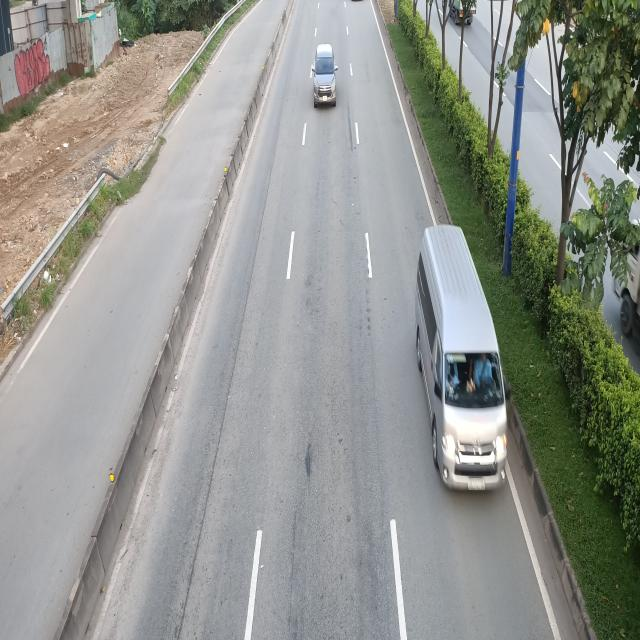car: (311, 44, 338, 108)
van: (413, 223, 511, 490)
